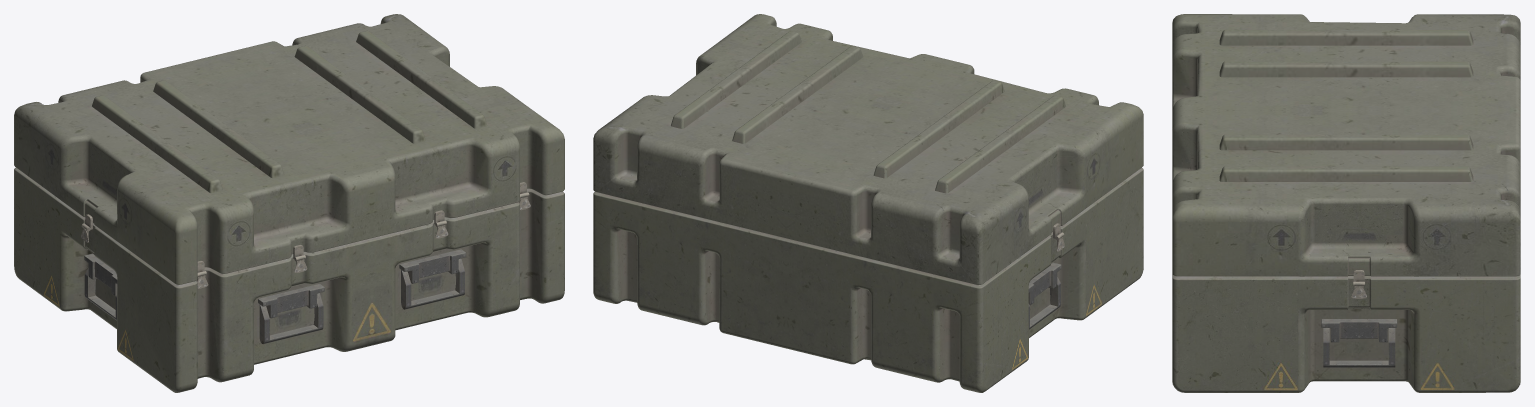
File: SM_Military_Crate.glb
The picture shows the model from 3 angles, left to right: view 1: azimuth 30°, elevation 25°; view 2: azimuth 150°, elevation 25°; view 3: azimuth 270°, elevation 25°; orthographic projection. The views are drawn at different scales.
Visible parts, largest first — view 1: SM_Military_Crate; view 2: SM_Military_Crate; view 3: SM_Military_Crate.
Part boxes in pixels (x1=…): SM_Military_Crate: x1=14, y1=14, x2=564, y2=392; SM_Military_Crate: x1=593, y1=14, x2=1143, y2=392; SM_Military_Crate: x1=1172, y1=14, x2=1520, y2=392.
Size of the model in its own units: 0.7668 by 0.3385 by 0.55.
Materials: 1 (1 with a texture image).
